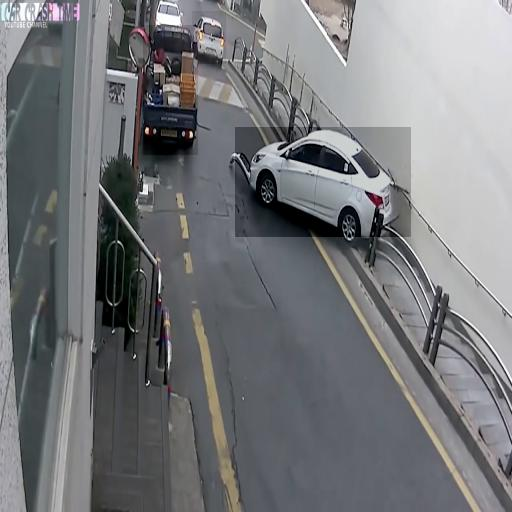小汽车: (143, 26, 198, 156), (192, 11, 226, 64)
小汽车撞物: (235, 127, 411, 237)
